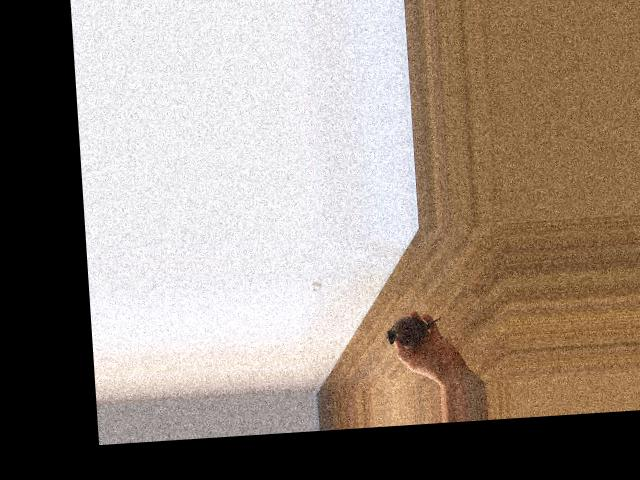beet: (386, 313, 442, 349)
